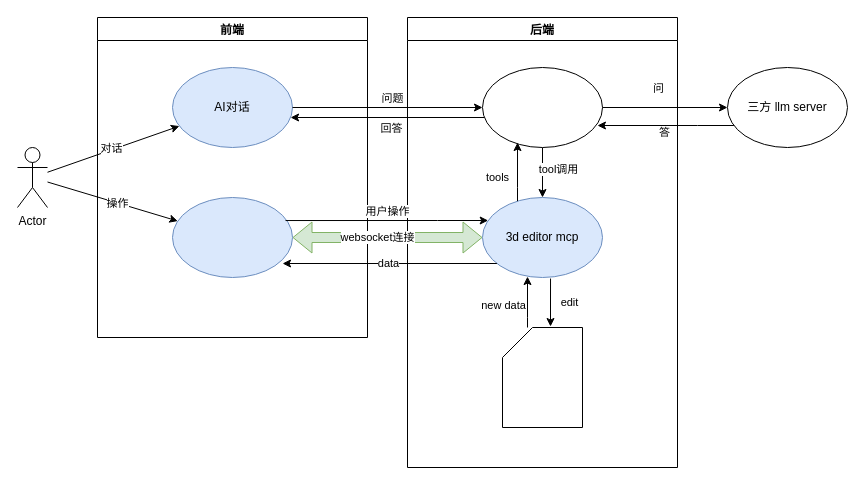
Image size: 865x485. Some labels were removed from this diagram. The shapes that lost their labels are listed below. From the top down, each one's centre as x and y in pixels, then its label:
[542,107]: llm workflow
[232,237]: 3D场景
[542,377]: 3D场景数据
